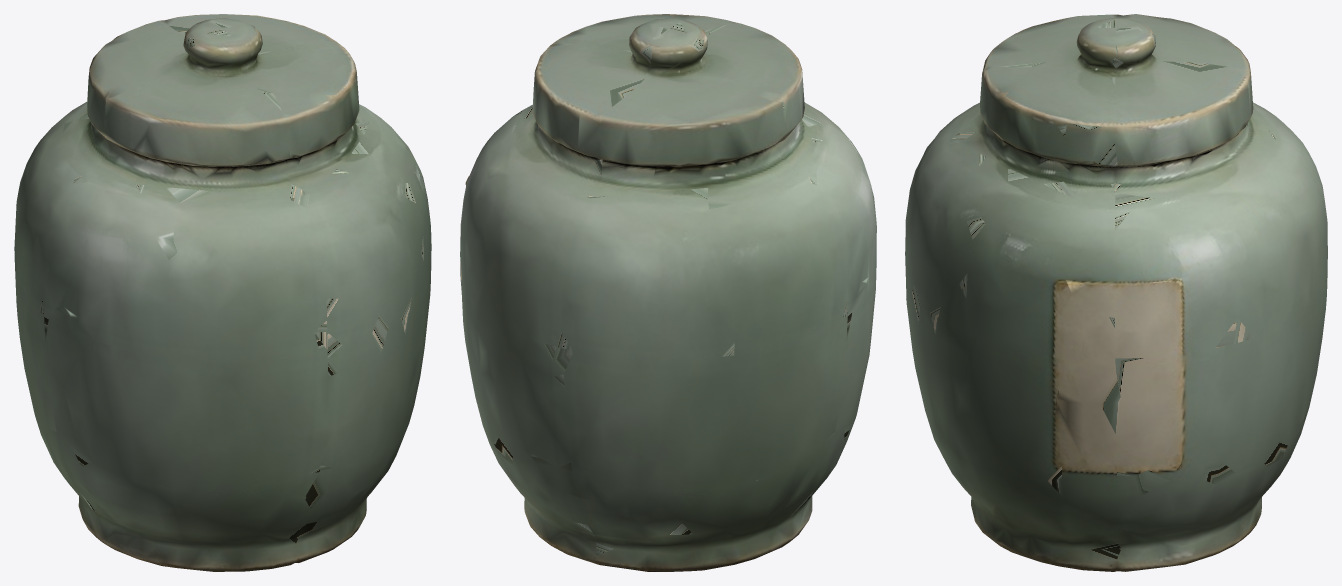
The model's file is jar-mobile.glb.
3 views of the same model, side by side, from view 1: azimuth 30°, elevation 25°; view 2: azimuth 150°, elevation 25°; view 3: azimuth 270°, elevation 25° (orthographic).
Visible parts, largest first — view 1: tripo_node_c8fccbc5-1bf1-4c81-ab2a-b4f68db50501; view 2: tripo_node_c8fccbc5-1bf1-4c81-ab2a-b4f68db50501; view 3: tripo_node_c8fccbc5-1bf1-4c81-ab2a-b4f68db50501.
Part boxes in pixels (x1,y1,x2,y2): tripo_node_c8fccbc5-1bf1-4c81-ab2a-b4f68db50501: (14, 14, 431, 571); tripo_node_c8fccbc5-1bf1-4c81-ab2a-b4f68db50501: (460, 14, 876, 571); tripo_node_c8fccbc5-1bf1-4c81-ab2a-b4f68db50501: (905, 14, 1327, 571).
Bounding box in the file's own units: 0.7729 × 0.999 × 0.787.
Materials: 1 (1 with a texture image).
